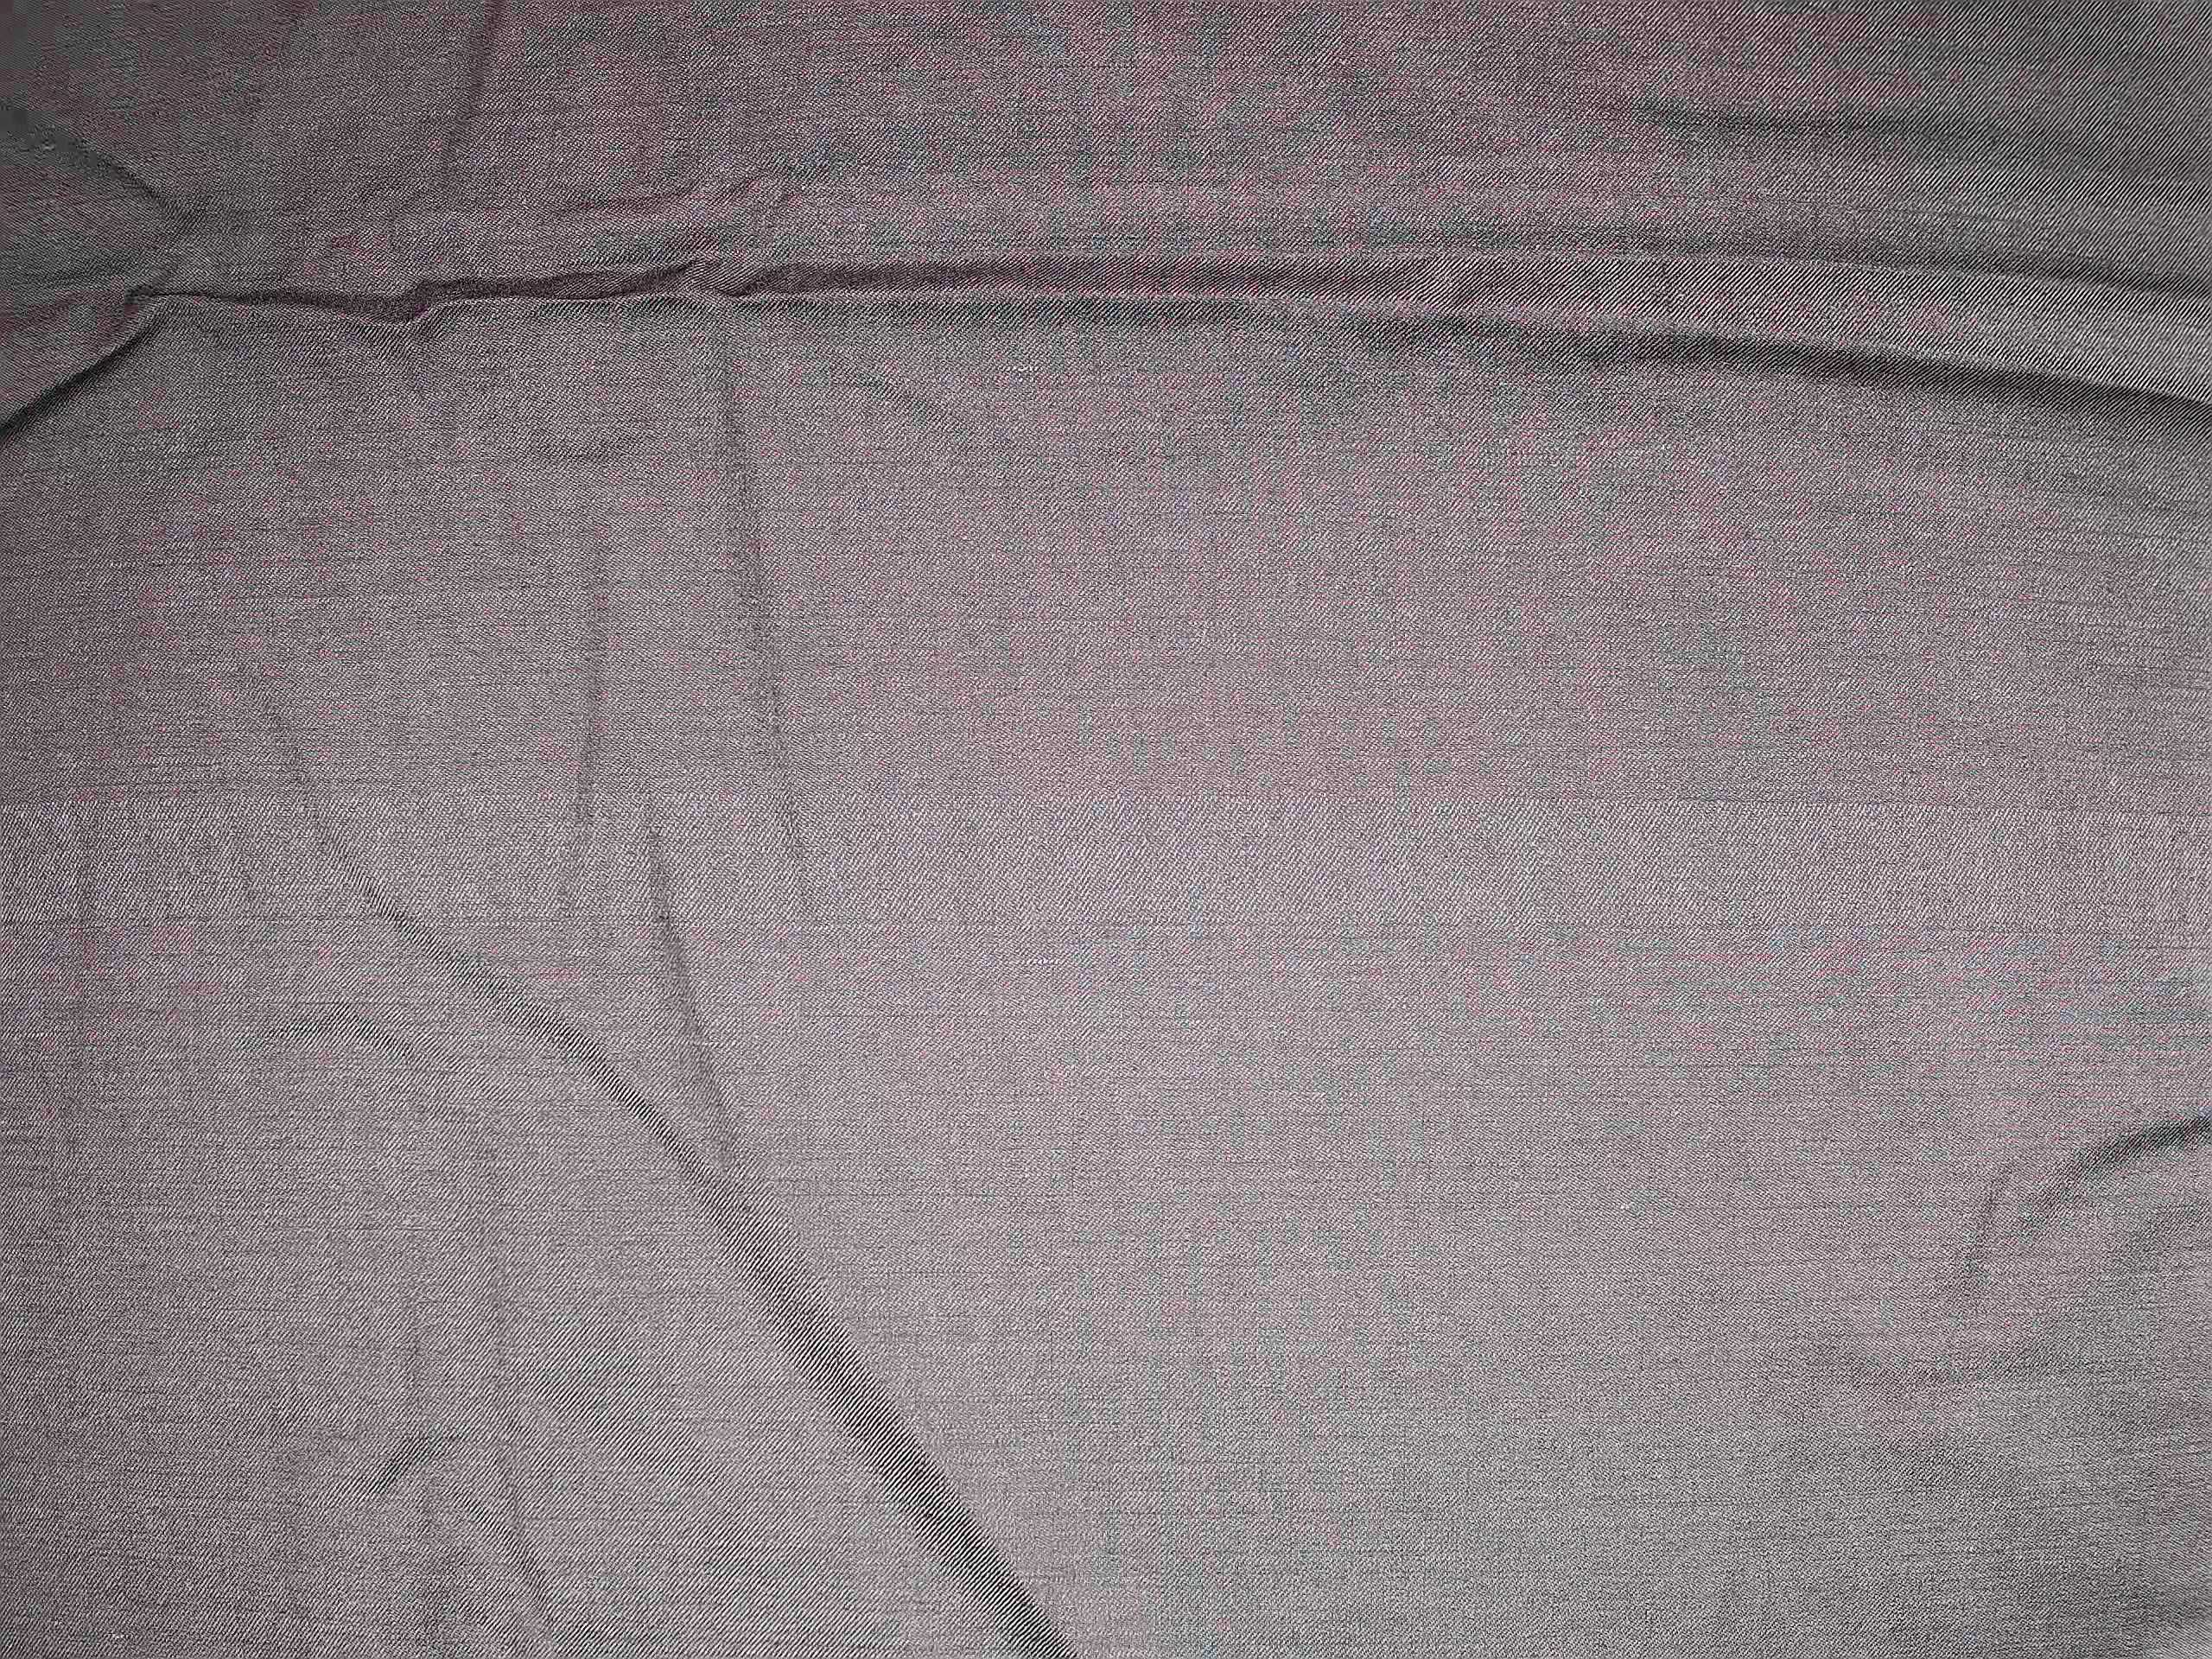others: (5, 760, 1904, 960)
